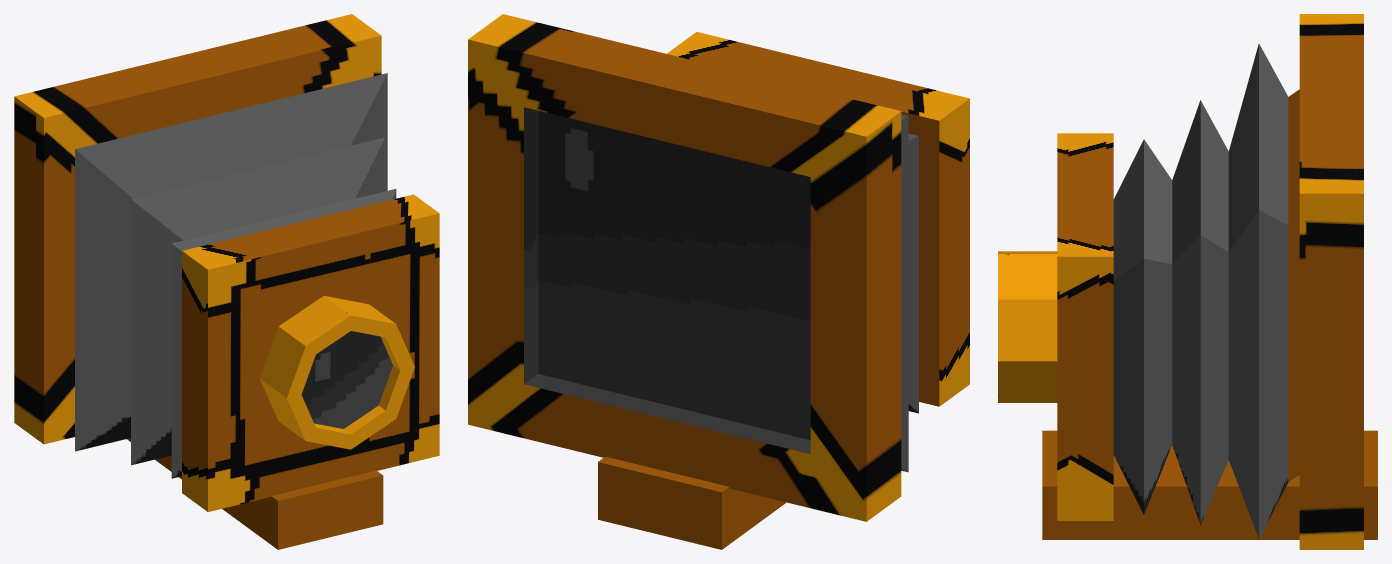
File: camera.fbx
The picture shows the model from 3 angles, left to right: view 1: azimuth 30°, elevation 25°; view 2: azimuth 150°, elevation 25°; view 3: azimuth 270°, elevation 25°; orthographic projection. The views are drawn at different scales.
Parts seen in each view (by area): view 1: pCube3; view 2: pCube3; view 3: pCube3.
Boxes of the visible parts, x1=… form: pCube3: x1=14, y1=14, x2=439, y2=549; pCube3: x1=468, y1=14, x2=969, y2=549; pCube3: x1=998, y1=14, x2=1377, y2=549.
Bounding box in the file's own units: 3.21 × 3.4 × 2.87.
